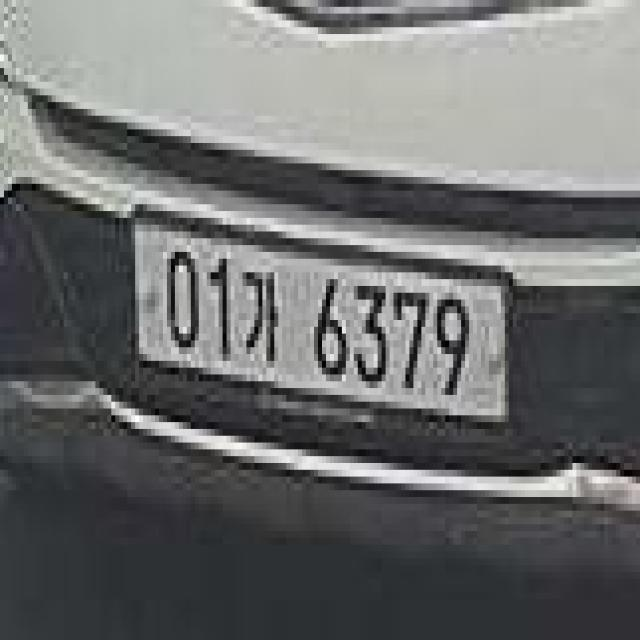illegal_plate: (133, 208, 514, 454)
